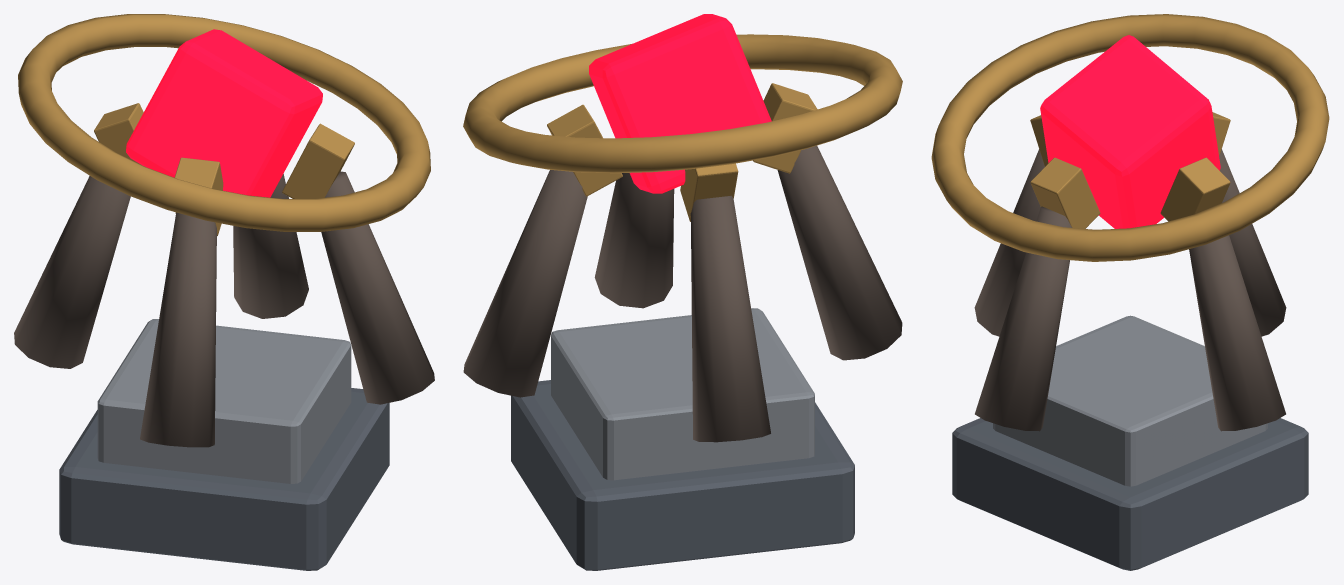
The model's file is Artificial_MagicStone_Reactor.fbx.
3 views of the same model, side by side, from view 1: azimuth 30°, elevation 25°; view 2: azimuth 150°, elevation 25°; view 3: azimuth 270°, elevation 25° (orthographic). The views are drawn at different scales.
Visible parts, largest first — view 1: Pedestal_Lower.002, Containment_Ring, Pedestal_Upper.002, Core.002, Frame_Claw_2, Frame_Claw_1, Frame_Claw_3, Frame_Claw_0, Frame_Cap_3, Frame_Cap_1, Frame_Cap_2; view 2: Pedestal_Lower.002, Pedestal_Upper.002, Containment_Ring, Core.002, Frame_Claw_1, Frame_Claw_0, Frame_Claw_2, Frame_Claw_3, Frame_Cap_2, Frame_Cap_0, Frame_Cap_1; view 3: Pedestal_Lower.002, Containment_Ring, Pedestal_Upper.002, Core.002, Frame_Claw_0, Frame_Claw_3, Frame_Claw_1, Frame_Claw_2, Frame_Cap_3, Frame_Cap_0.
Part boxes in pixels (x1,y1,x2,y2): Pedestal_Lower.002: [59, 388, 389, 570]; Containment_Ring: [18, 14, 430, 231]; Pedestal_Upper.002: [97, 319, 351, 483]; Core.002: [126, 29, 322, 197]; Frame_Claw_2: [140, 212, 216, 447]; Frame_Claw_1: [14, 176, 130, 368]; Frame_Claw_3: [321, 171, 434, 404]; Frame_Claw_0: [233, 174, 308, 318]; Frame_Cap_3: [282, 123, 354, 198]; Frame_Cap_1: [94, 103, 143, 164]; Frame_Cap_2: [174, 157, 223, 235]; Pedestal_Lower.002: [511, 380, 854, 570]; Pedestal_Upper.002: [551, 308, 814, 480]; Containment_Ring: [463, 34, 902, 173]; Core.002: [589, 14, 771, 193]; Frame_Claw_1: [690, 195, 770, 442]; Frame_Claw_0: [463, 170, 587, 397]; Frame_Claw_2: [777, 145, 902, 360]; Frame_Claw_3: [594, 173, 674, 308]; Frame_Cap_2: [753, 83, 817, 173]; Frame_Cap_0: [547, 104, 622, 196]; Frame_Cap_1: [680, 163, 738, 221]; Pedestal_Lower.002: [952, 418, 1308, 570]; Containment_Ring: [931, 14, 1329, 261]; Pedestal_Upper.002: [993, 315, 1267, 486]; Core.002: [1040, 35, 1220, 228]; Frame_Claw_0: [1189, 235, 1285, 431]; Frame_Claw_3: [975, 206, 1071, 431]; Frame_Claw_1: [1219, 149, 1286, 336]; Frame_Claw_2: [974, 149, 1044, 336]; Frame_Cap_3: [1030, 157, 1100, 228]; Frame_Cap_0: [1160, 157, 1230, 221].
Bounding box in the file's own units: 1.33 × 1.65 × 1.34.
